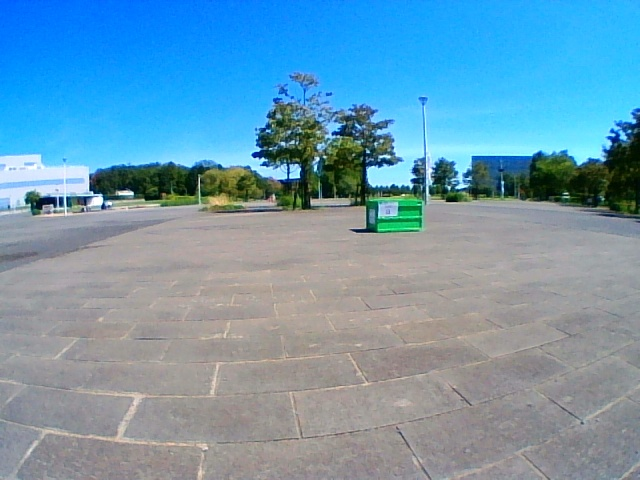green_box: (366, 199, 422, 232)
tag: (378, 202, 398, 216)
